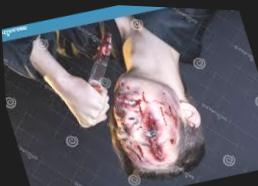Fire: (112, 80, 179, 164)
